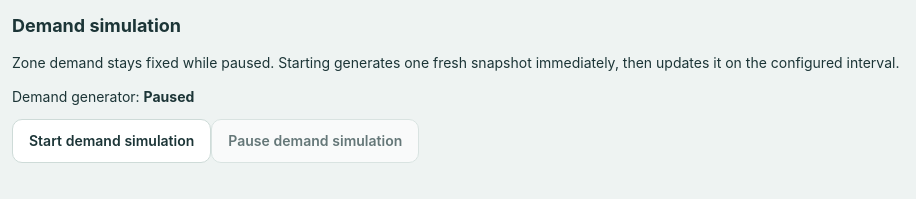
Test: demand simulation control › shows rejected controls without claiming success
Expected: the text "Paused" is shown, x1=144 y1=88 x2=194 y2=105
Click the button "Start demand simulation" at [112, 141], box x1=12 y1=119 x2=211 y2=163
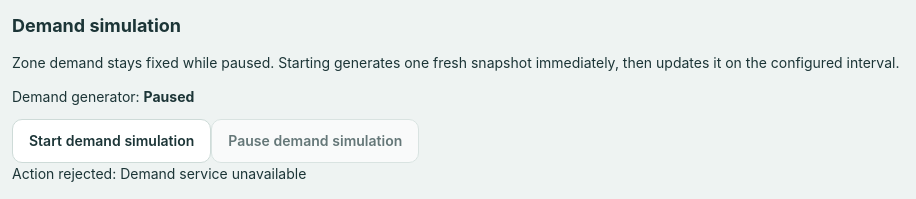
Expected: the text "Paused" is shown, x1=144 y1=88 x2=194 y2=105
Result: the message "Action rejected: Demand service unavailable" is shown at x1=12 y1=165 x2=306 y2=182
